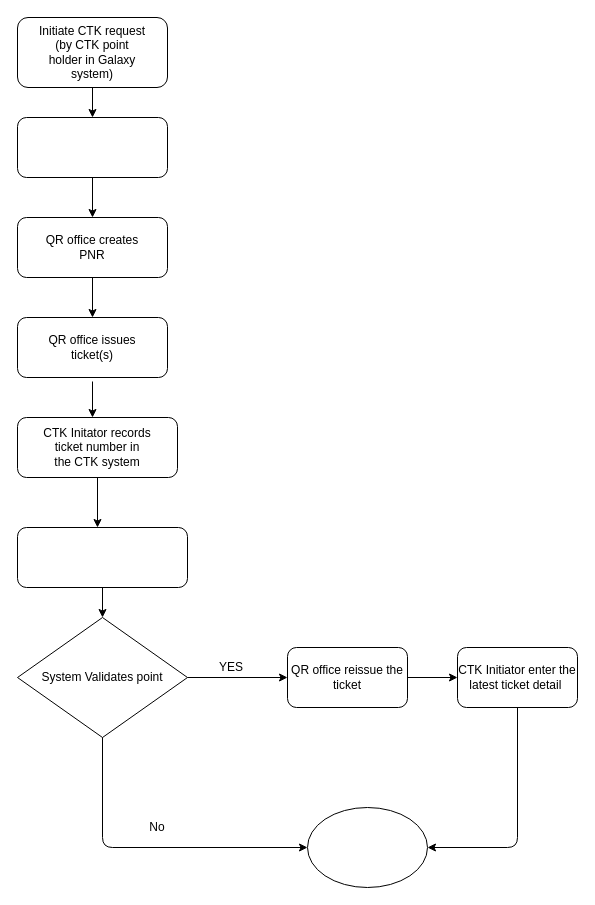
Image size: 595x905. Some labels were removed from this diagram. The centre of each missing label's shape, as x and y in pixels:
"Approve CTK request as per DoA approval workflow in Galaxy system" belongs at point 92,147.
"CTK Initator request for change of Sector" belongs at point 102,557.
"END" belongs at point 367,847.
